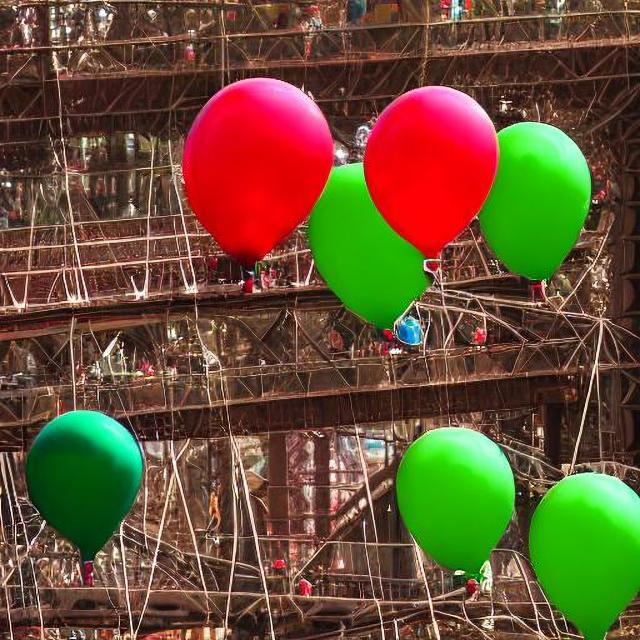balloon: (317, 86, 597, 347), (172, 72, 334, 274), (386, 423, 532, 601), (22, 404, 153, 586), (456, 116, 592, 289), (520, 464, 636, 634)
